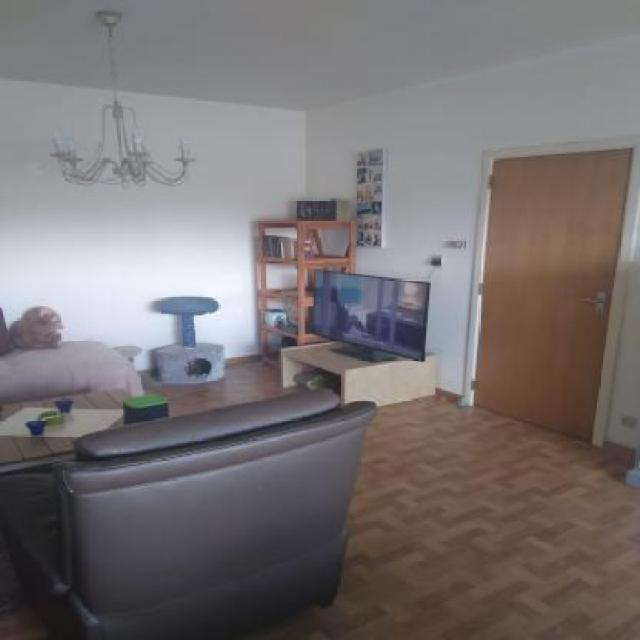Floor: (246, 394, 640, 640), (142, 360, 308, 416), (0, 610, 53, 640)
